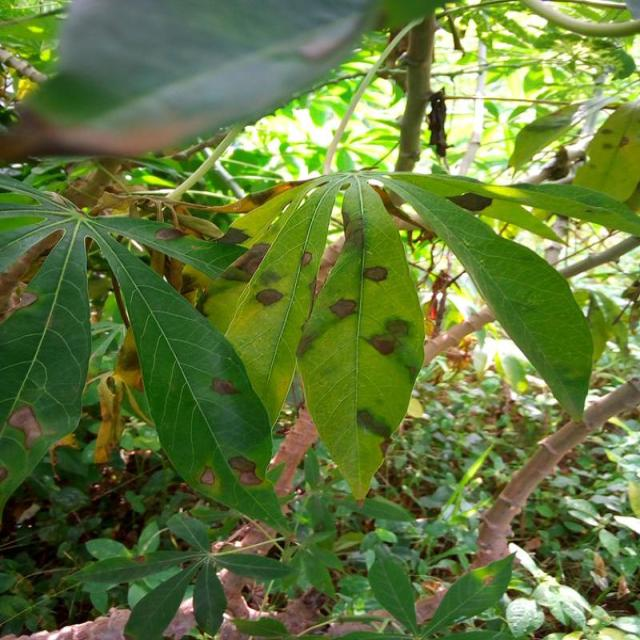cassava leaf: (85, 215, 292, 536), (376, 172, 594, 423), (294, 174, 426, 502), (197, 172, 347, 435), (0, 214, 91, 523)
